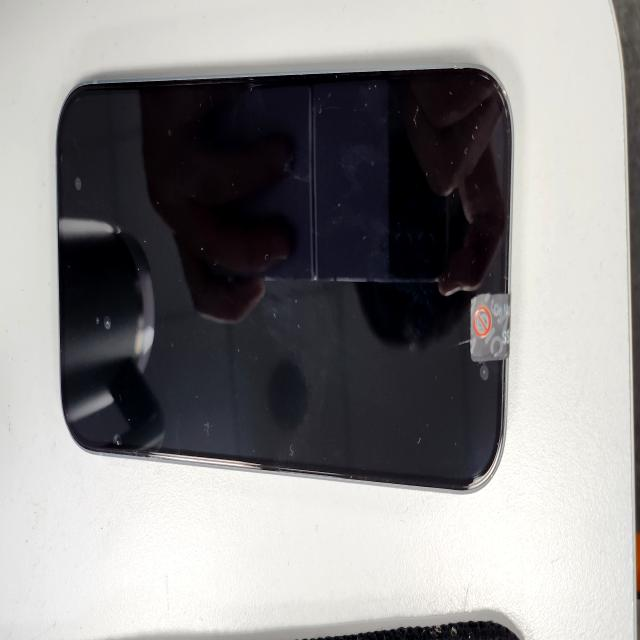phone: (54, 62, 512, 498)
removed_sticker: (470, 293, 511, 360)
